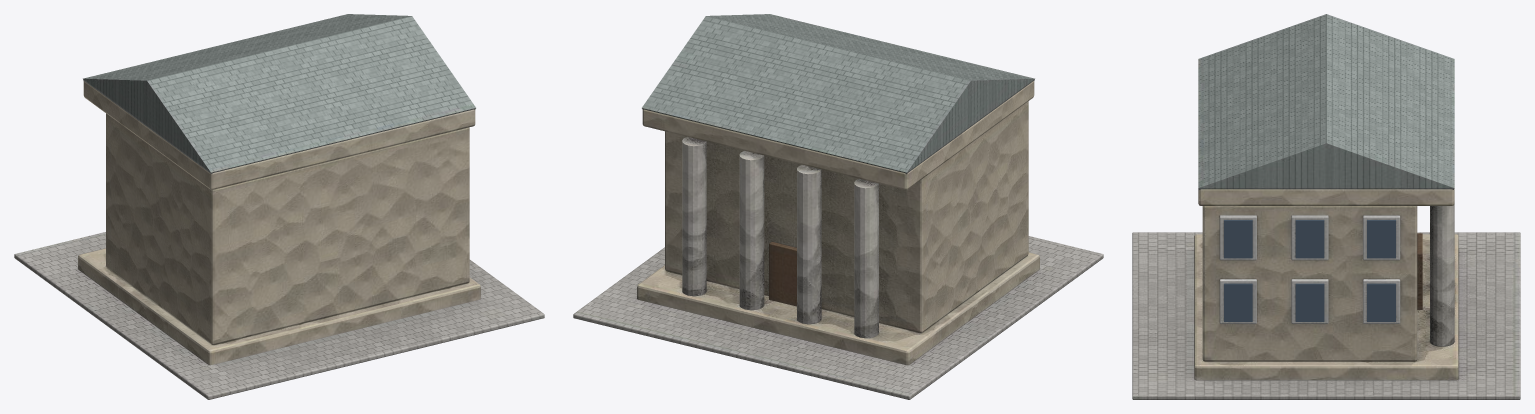
Rendered from bibliothek.glb.
The picture shows the model from 3 angles, left to right: view 1: azimuth 30°, elevation 25°; view 2: azimuth 150°, elevation 25°; view 3: azimuth 270°, elevation 25°; orthographic projection.
Visible parts, largest first — view 1: bibliothek; view 2: bibliothek; view 3: bibliothek, bibliothek_details.
Part boxes in pixels (<box>): bibliothek: <box>14,14,544,399</box>; bibliothek: <box>573,14,1103,399</box>; bibliothek: <box>1132,14,1520,399</box>; bibliothek_details: <box>1224,220,1395,321</box>.
Bounding box in the file's own units: 0.94 × 0.64 × 0.94.
2 materials, 1 textured.
